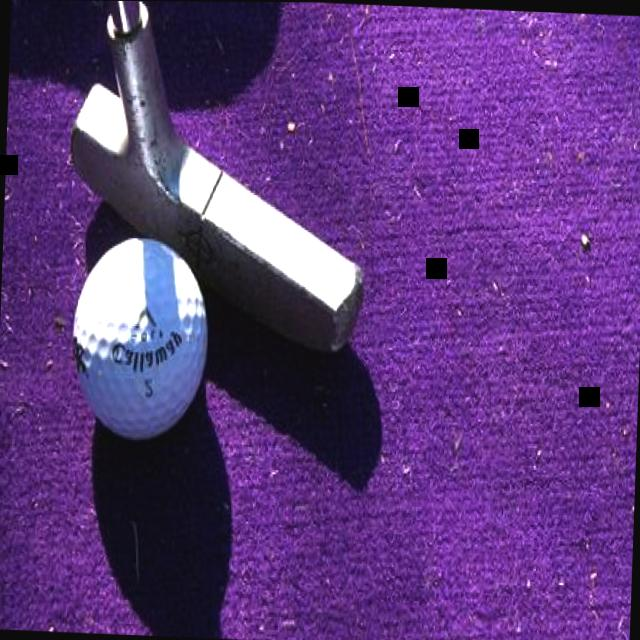golf ball: (56, 234, 216, 455)
